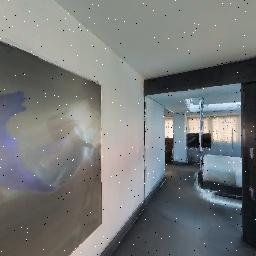door-frame: (136, 61, 255, 246)
